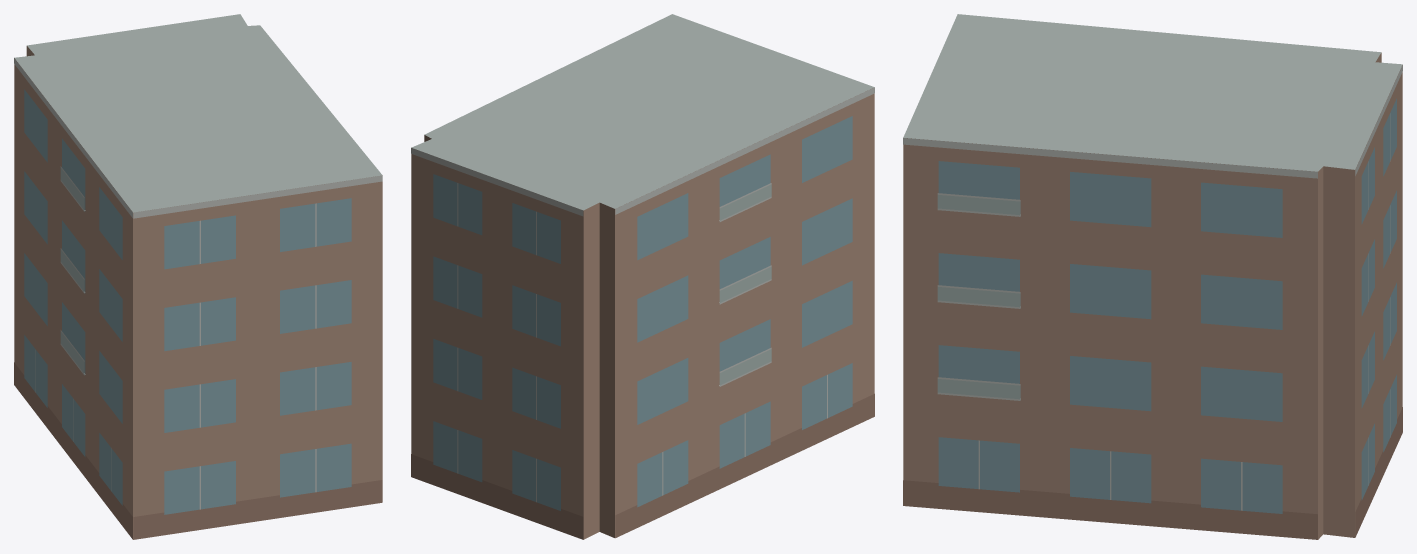
File: survey-upis-32937533.glb
3 renders of one model, left to right at view 1: azimuth 30°, elevation 25°; view 2: azimuth 150°, elevation 25°; view 3: azimuth 270°, elevation 25°, orthographic. The views are drawn at different scales.
Visible parts, largest first — view 1: survey-upis-32937533.tmp; view 2: survey-upis-32937533.tmp; view 3: survey-upis-32937533.tmp.
Part boxes in pixels (box(x1,y1,x2,y2)): survey-upis-32937533.tmp: box(14, 14, 382, 539); survey-upis-32937533.tmp: box(411, 14, 874, 539); survey-upis-32937533.tmp: box(903, 14, 1402, 539).
Size of the model in its own units: 12.05 by 13.1 by 16.12.
